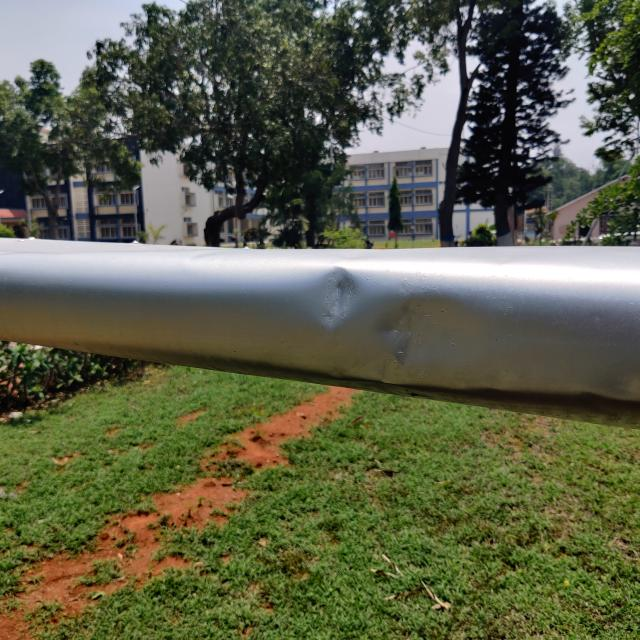dent: (361, 286, 467, 401), (294, 254, 378, 343)
